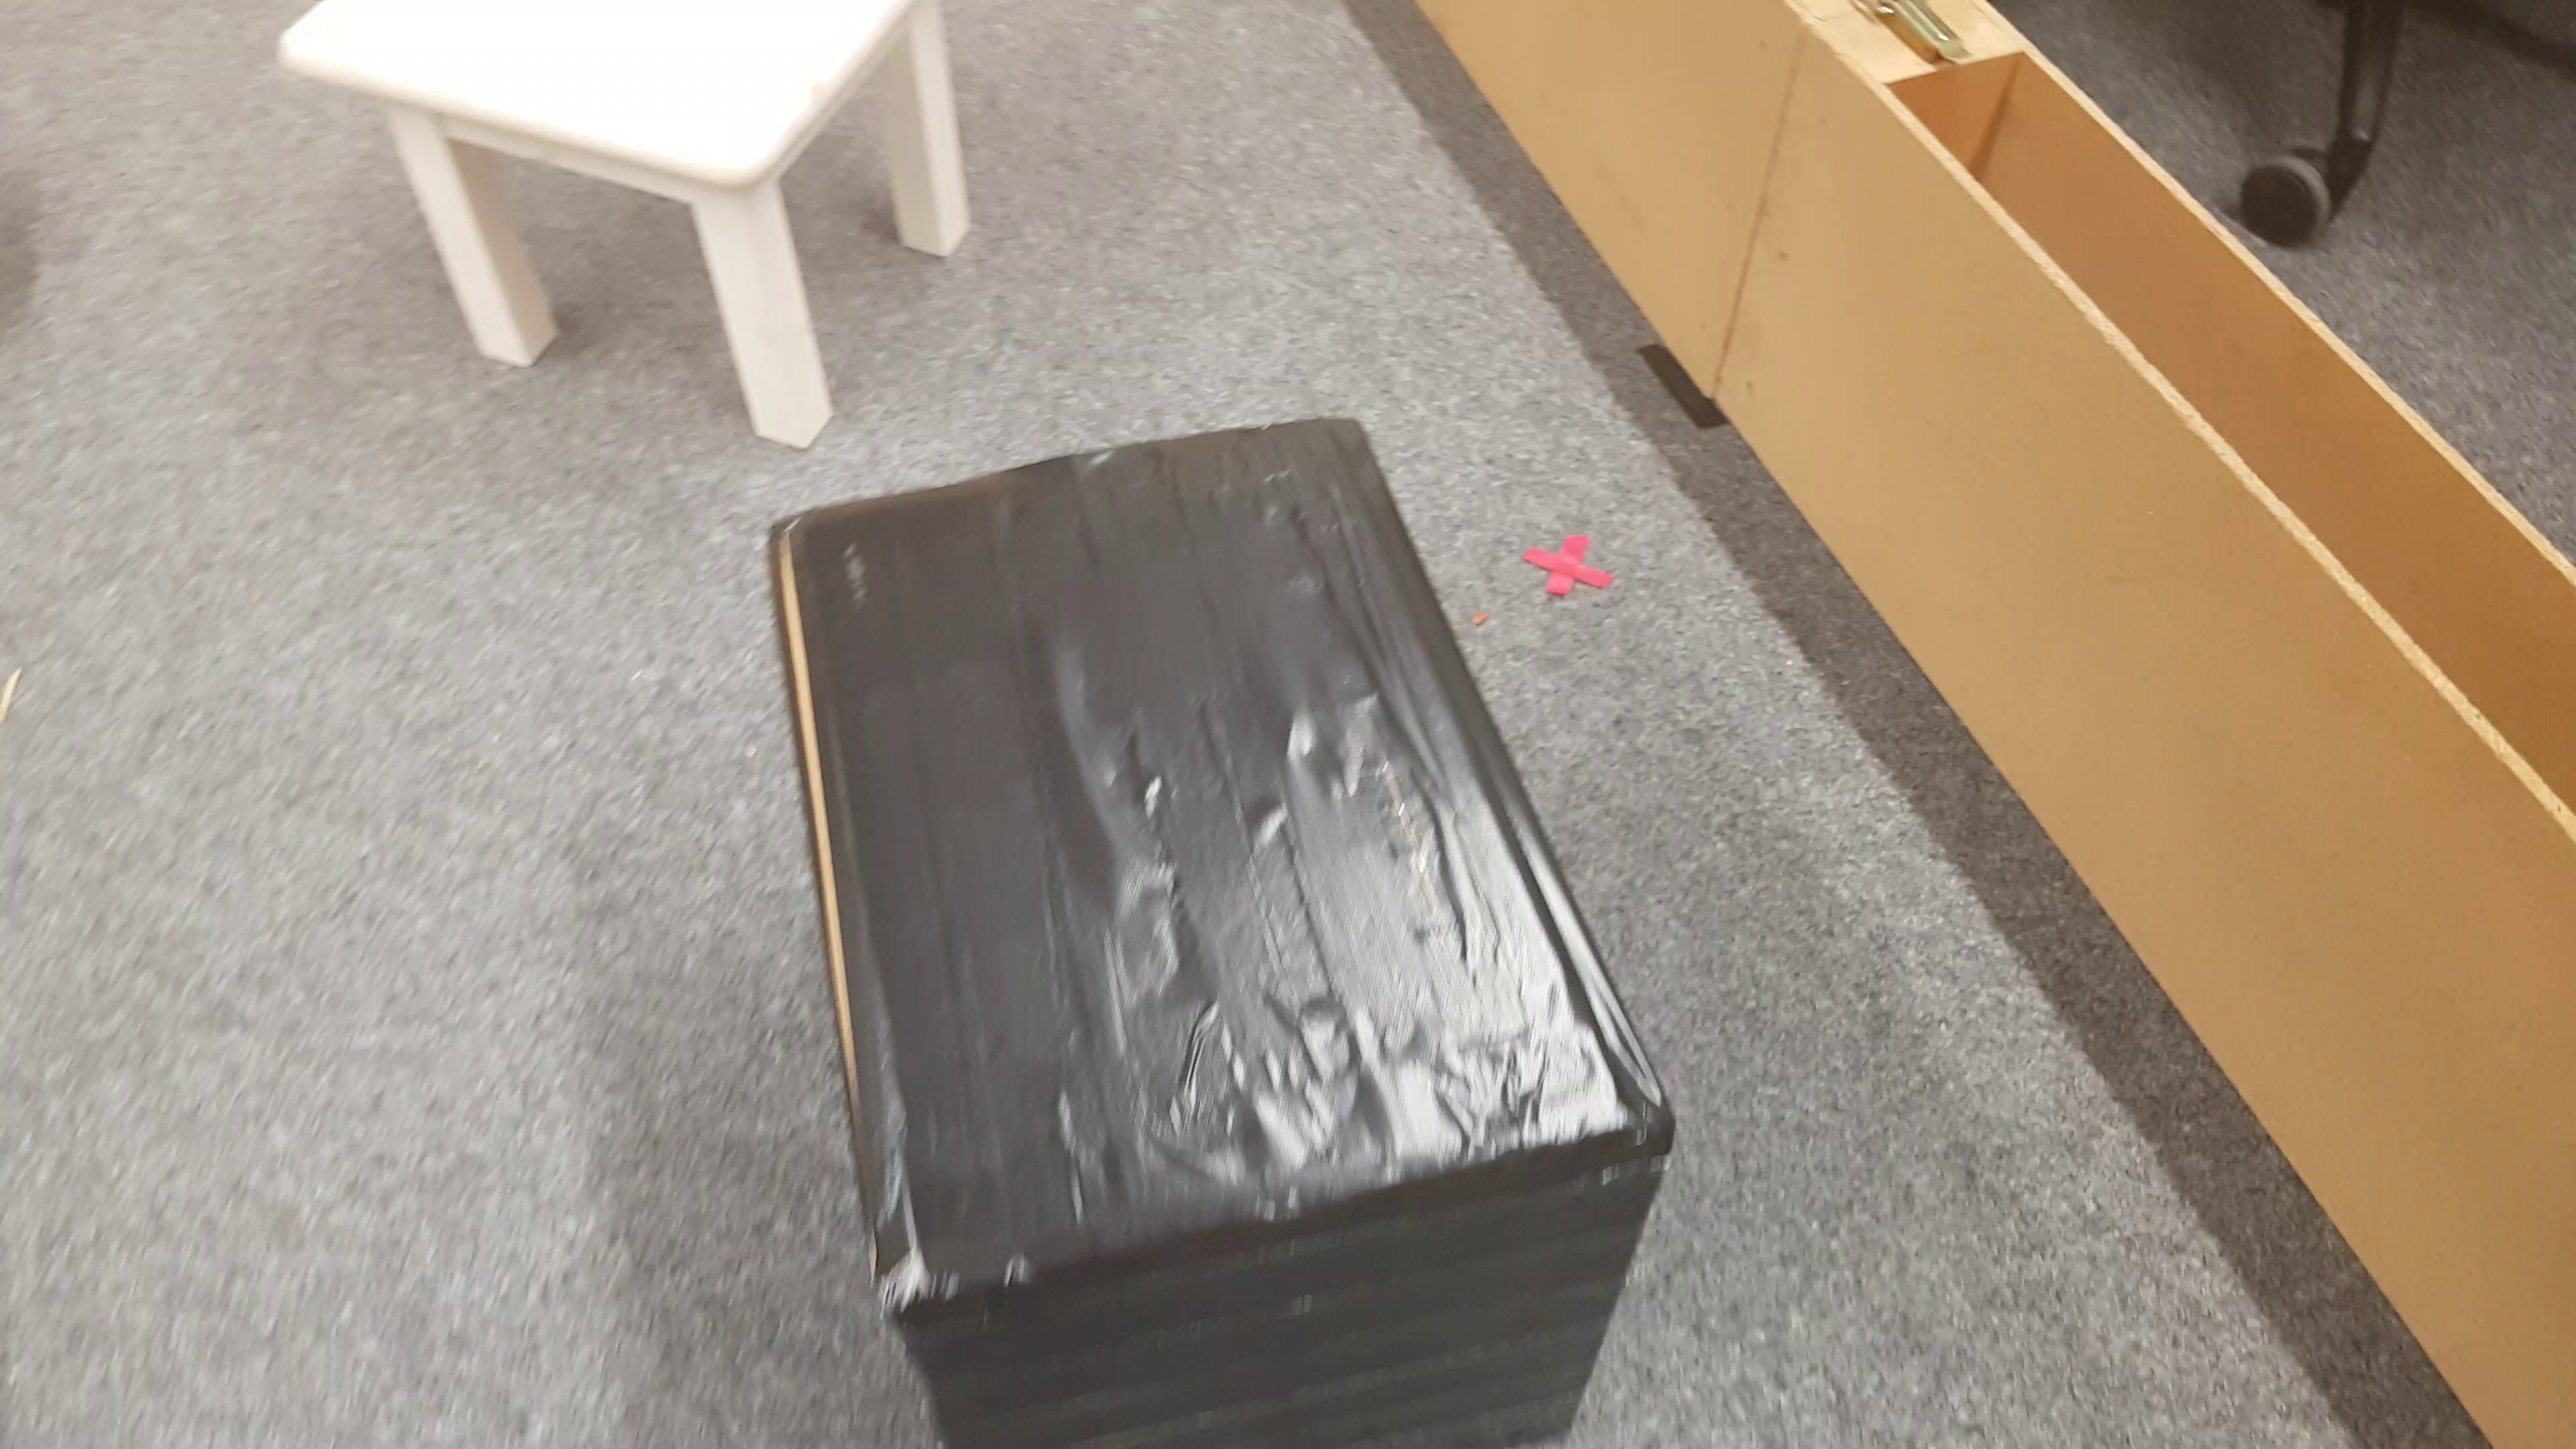push: (752, 419, 1679, 1449)
